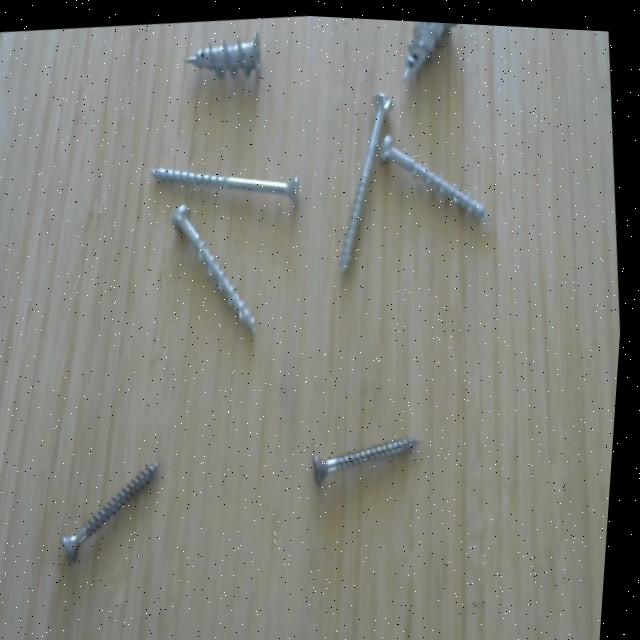Black screw: (62, 446, 175, 572), (312, 418, 434, 496)
Long screw: (334, 86, 399, 277), (149, 156, 306, 212)
Medium screw: (167, 193, 273, 342), (378, 122, 499, 231)
Short screw: (179, 26, 269, 84), (397, 17, 458, 87)
